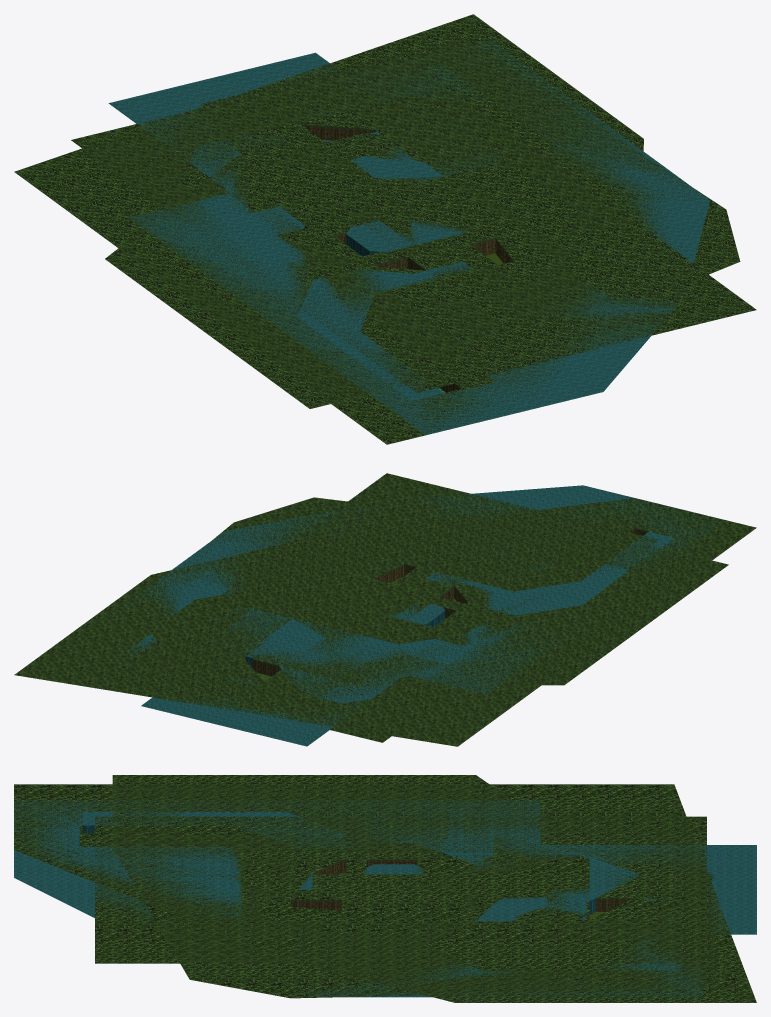
The model's file is kirilivel1.obj.
3 renders of one model, top to bottom at view 1: azimuth 30°, elevation 25°; view 2: azimuth 150°, elevation 25°; view 3: azimuth 270°, elevation 25°, orthographic. The views are drawn at different scales.
Visible parts, largest first — view 1: Mesh1_t_level1_Model, Mesh3_t1_level2_Model, Mesh5_t2_level3_Model, Mesh7_t3_level4_Model, Mesh6_b2_level3_Model, Mesh2_b_level1_Model; view 2: Mesh5_t2_level3_Model, Mesh1_t_level1_Model, Mesh7_t3_level4_Model, Mesh3_t1_level2_Model, Mesh6_b2_level3_Model; view 3: Mesh5_t2_level3_Model, Mesh1_t_level1_Model, Mesh3_t1_level2_Model, Mesh7_t3_level4_Model, Mesh4_b1_level2_Model, Mesh2_b_level1_Model.
Boxes of the visible parts, x1,y1,x2,y2 form: Mesh1_t_level1_Model: [71, 57, 756, 392]; Mesh3_t1_level2_Model: [105, 39, 740, 408]; Mesh5_t2_level3_Model: [14, 14, 643, 444]; Mesh7_t3_level4_Model: [108, 40, 709, 435]; Mesh6_b2_level3_Model: [305, 226, 513, 392]; Mesh2_b_level1_Model: [301, 124, 425, 270]; Mesh5_t2_level3_Model: [14, 498, 756, 746]; Mesh1_t_level1_Model: [110, 473, 659, 742]; Mesh7_t3_level4_Model: [107, 485, 721, 746]; Mesh3_t1_level2_Model: [69, 497, 728, 712]; Mesh6_b2_level3_Model: [252, 528, 648, 680]; Mesh5_t2_level3_Model: [14, 784, 756, 1002]; Mesh1_t_level1_Model: [95, 816, 706, 963]; Mesh3_t1_level2_Model: [112, 775, 714, 998]; Mesh7_t3_level4_Model: [14, 801, 756, 997]; Mesh4_b1_level2_Model: [313, 859, 632, 911]; Mesh2_b_level1_Model: [291, 900, 341, 910].
Bounding box in the file's own units: 106 × 3 × 147.
6 materials, 6 textured.
